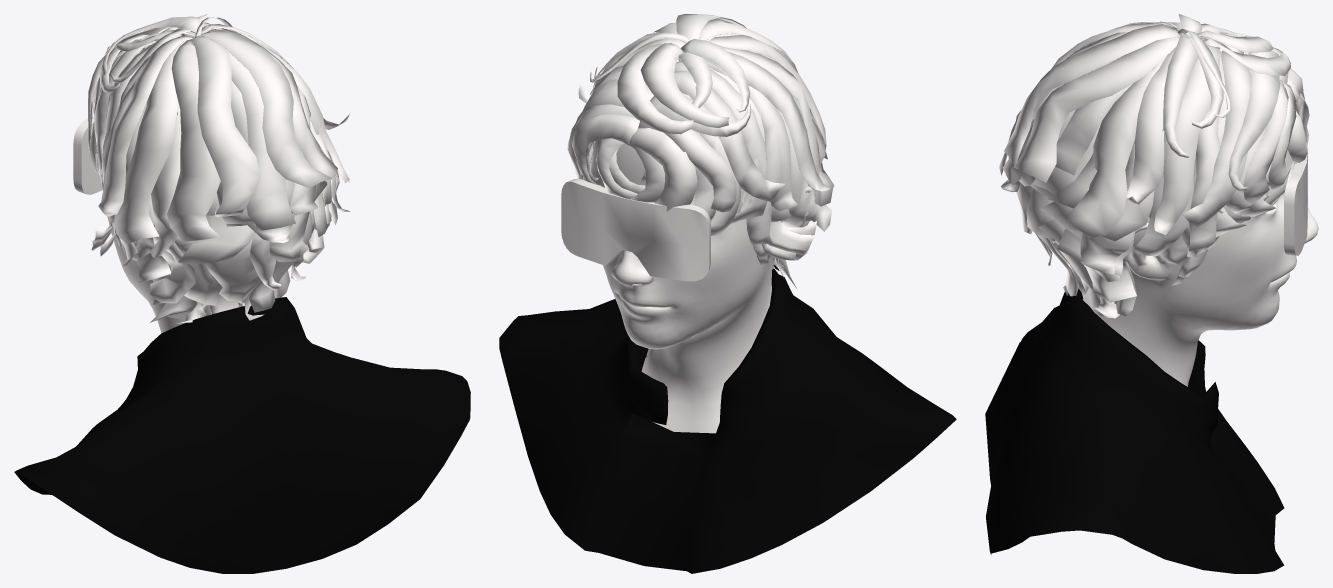
Rendered from BoyUVNew.fbx.
3 views of the same model, side by side, from view 1: azimuth 30°, elevation 25°; view 2: azimuth 150°, elevation 25°; view 3: azimuth 270°, elevation 25° (orthographic). The views are drawn at different scales.
Parts seen in each view (by area): view 1: Cube; view 2: Cube; view 3: Cube.
Part boxes in pixels (x1=…): Cube: x1=14, y1=14, x2=470, y2=573; Cube: x1=499, y1=14, x2=956, y2=573; Cube: x1=985, y1=14, x2=1318, y2=573.
Bounding box in the file's own units: 41.14 × 44.25 × 25.73.
